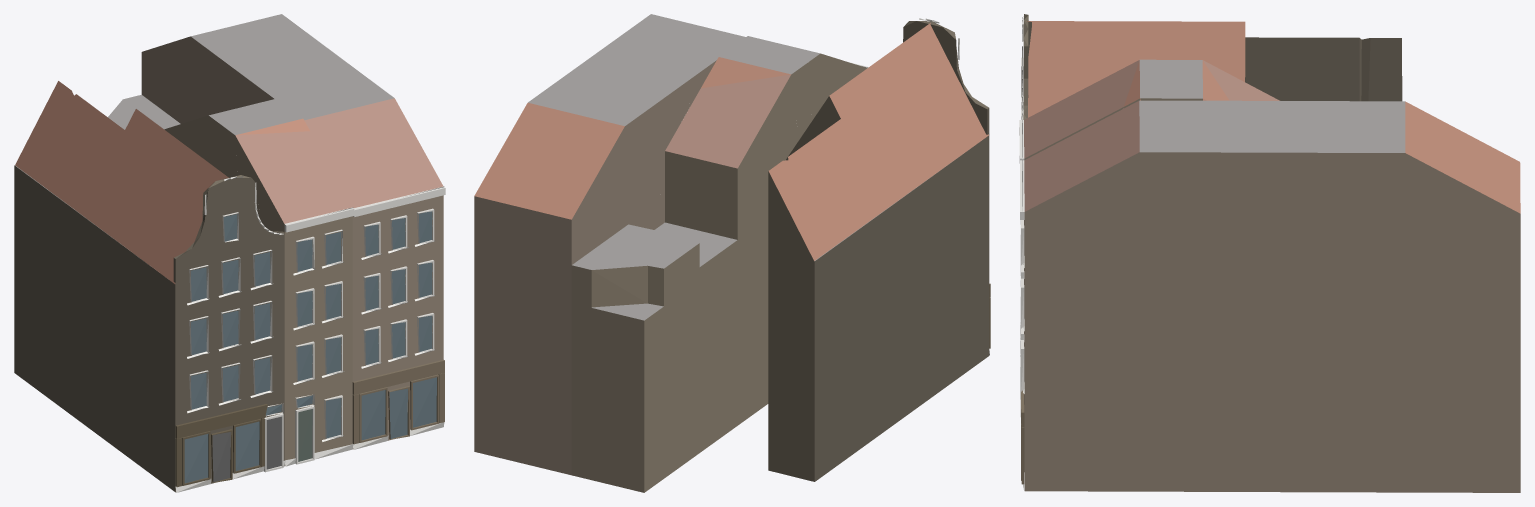
The model's file is chunk-face-bloemgracht-138-300-r1.lod2.glb.
3 views of the same model, side by side, from view 1: azimuth 30°, elevation 25°; view 2: azimuth 150°, elevation 25°; view 3: azimuth 270°, elevation 25° (orthographic). The views are drawn at different scales.
Parts seen in each view (by area): view 1: lod2; view 2: lod2; view 3: lod2.
Part boxes in pixels (x1=…): lod2: x1=14, y1=14, x2=445, y2=492; lod2: x1=474, y1=14, x2=990, y2=492; lod2: x1=1019, y1=14, x2=1520, y2=492.
Size of the model in its own units: 14.31 by 15.24 by 19.74.
